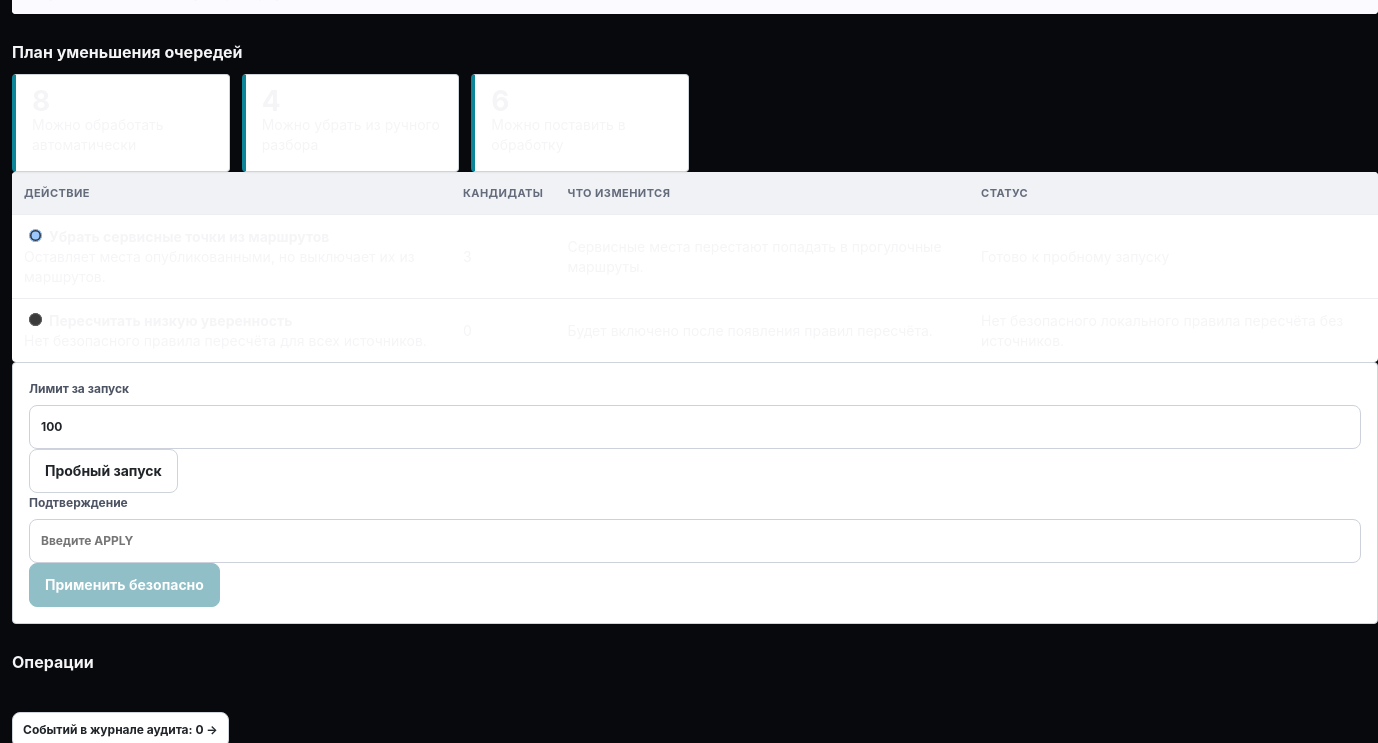
it: AdminOverviewPage product contract › requires confirmation before apply_new
(page scrolled)
Click the button "Пробный запуск". click: coordinates (103, 471)
box: left=29, top=449, right=178, bottom=493
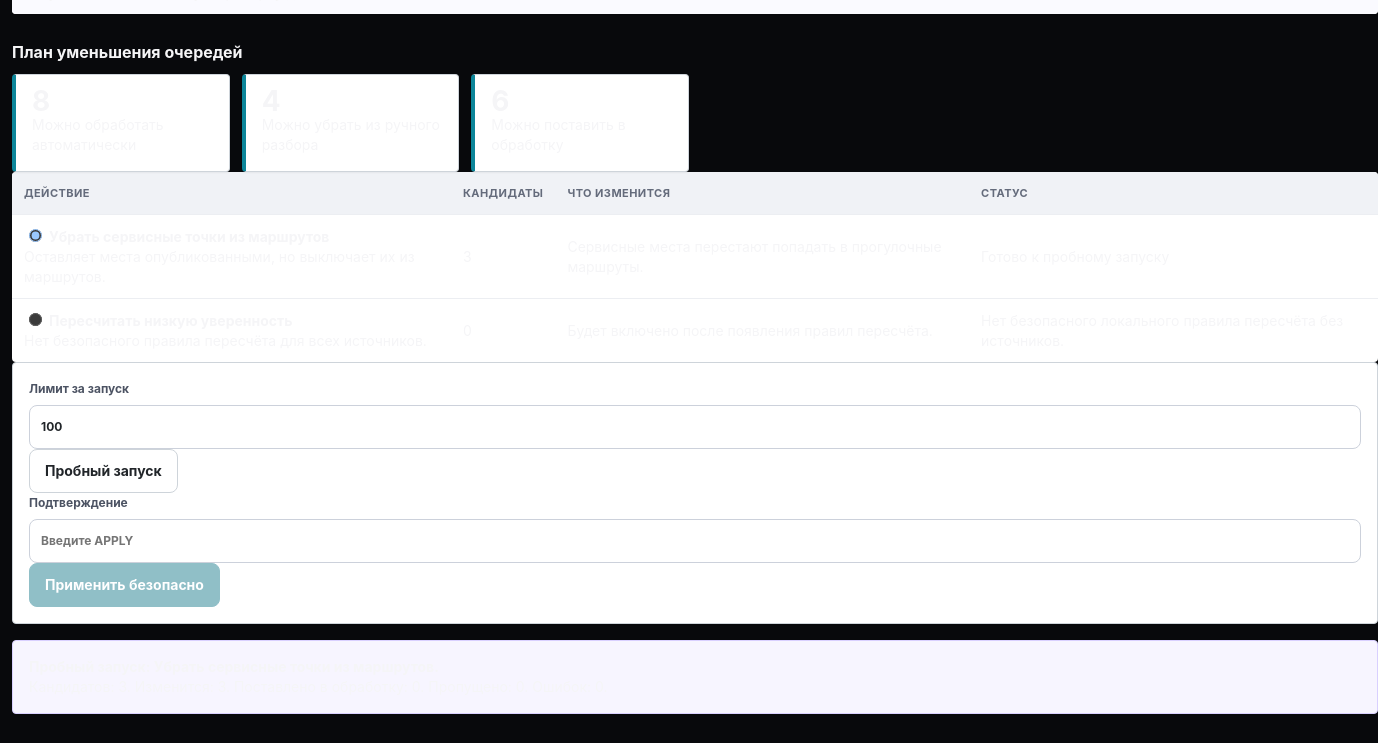
Now the element with test id "reduction-result" is shown, box left=12, top=640, right=1377, bottom=714
Type "APPLY" into the field with placeholder "Введите APPLY". click: coordinates (695, 541)
box: left=29, top=519, right=1361, bottom=563
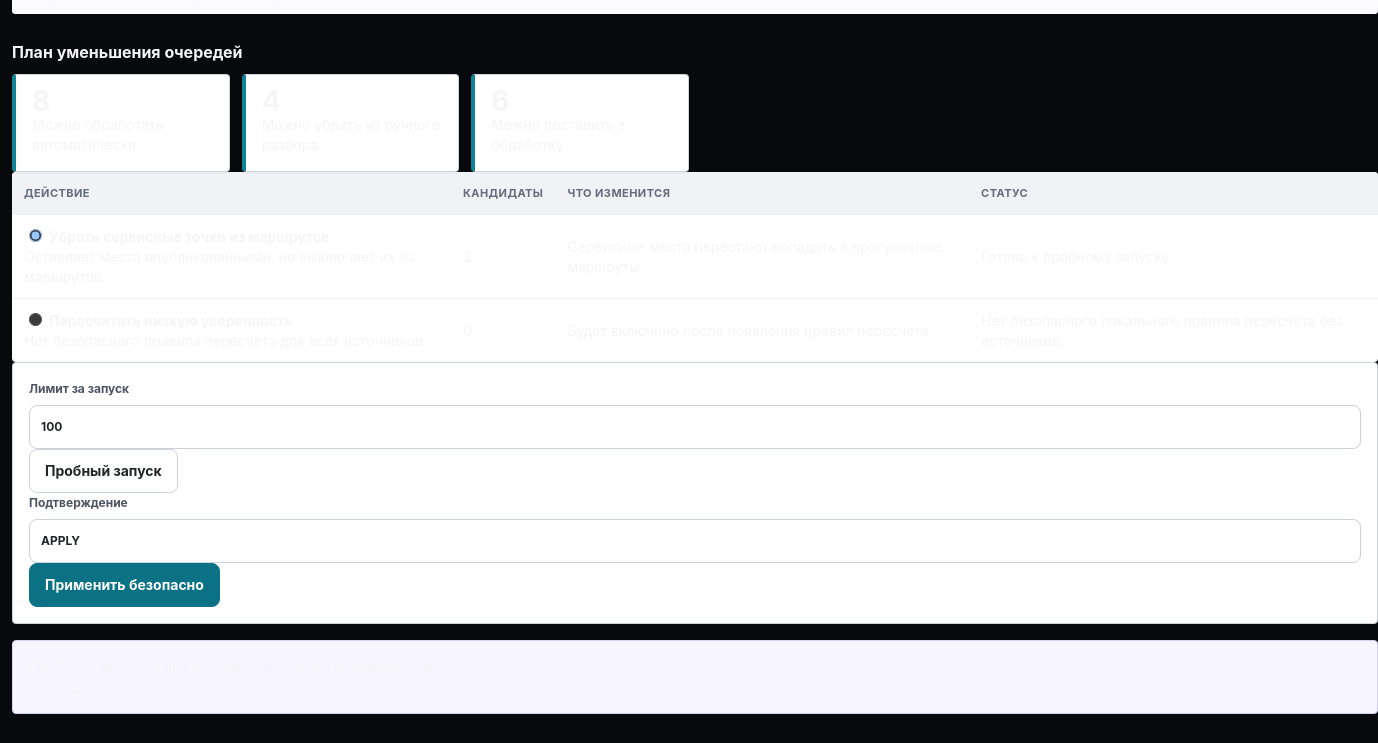
Now the button "Применить безопасно" is enabled, box left=29, top=563, right=220, bottom=607
